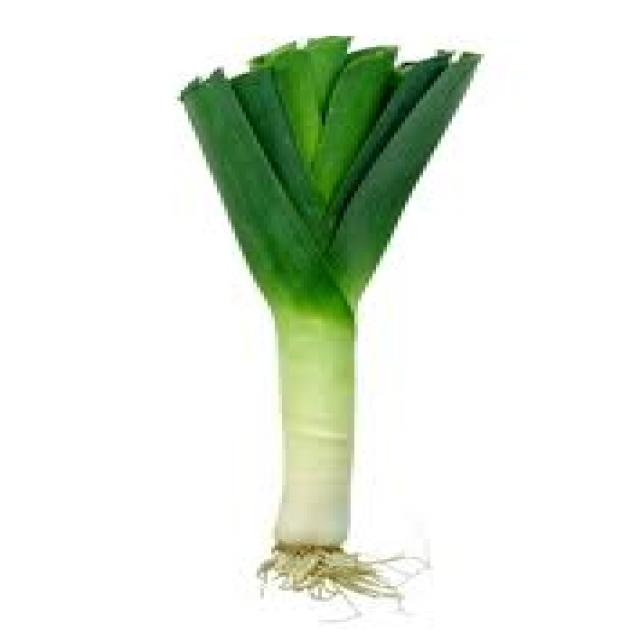greenonions: (138, 27, 488, 611)
